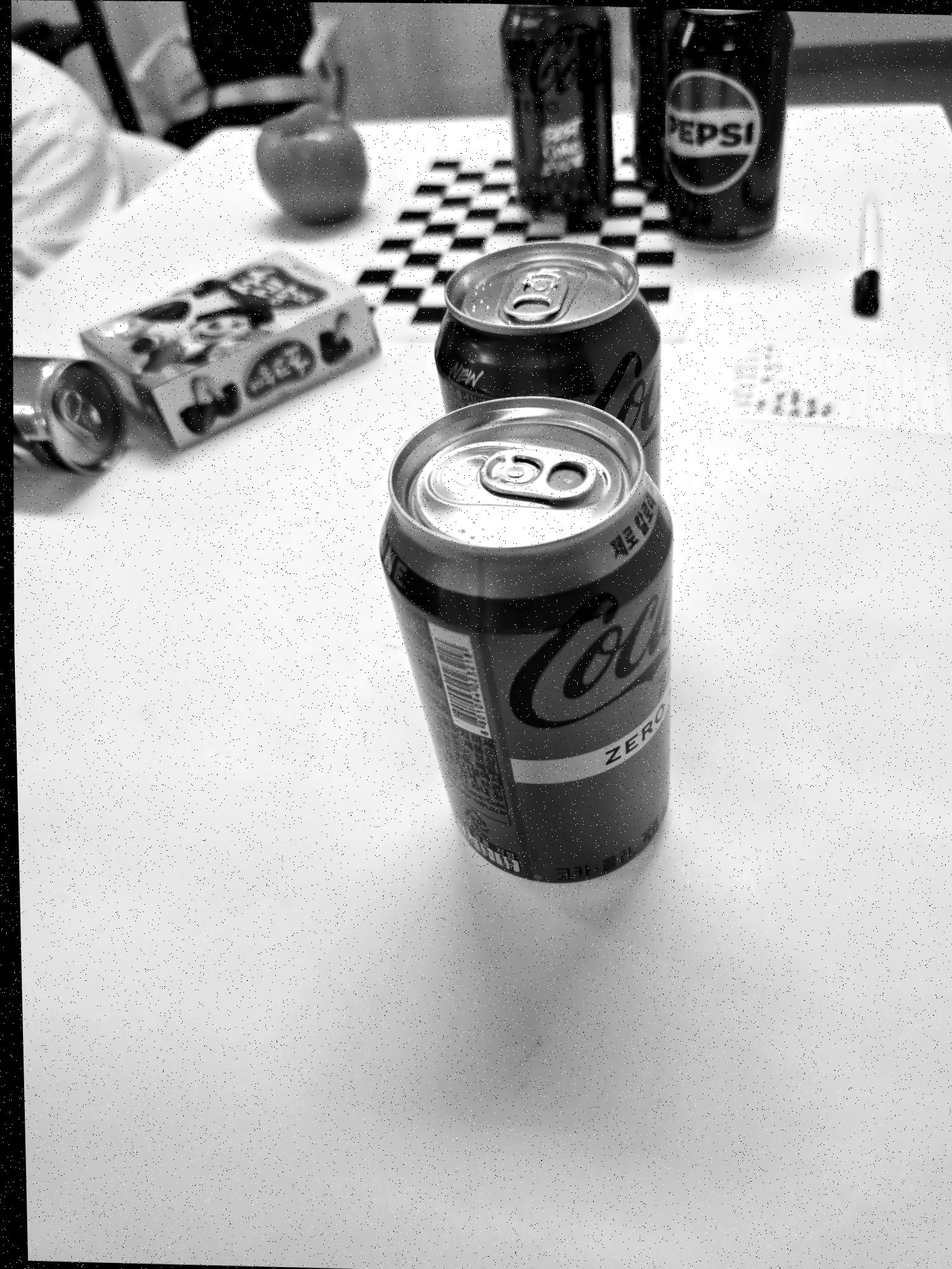can_coke_decaf: (366, 400, 670, 898)
can_coke_zero: (440, 236, 658, 480), (500, 4, 615, 209)
can_pepsi: (655, 17, 785, 247)
